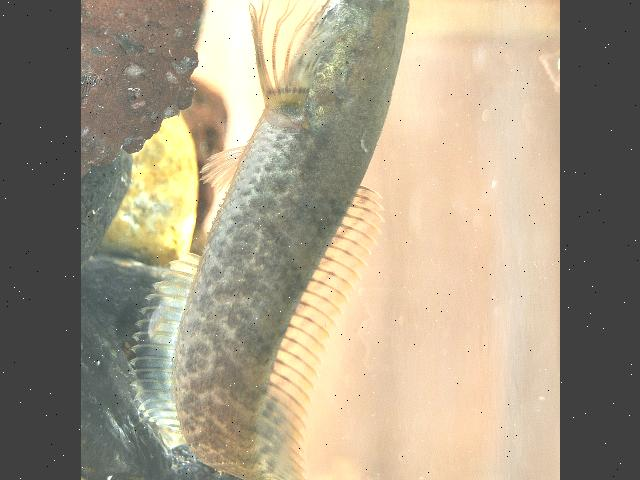Sirip Anal: (121, 248, 207, 461)
Sirip Dada: (240, 0, 355, 146), (190, 136, 252, 198)
Sirip Punggung: (250, 178, 393, 480)
